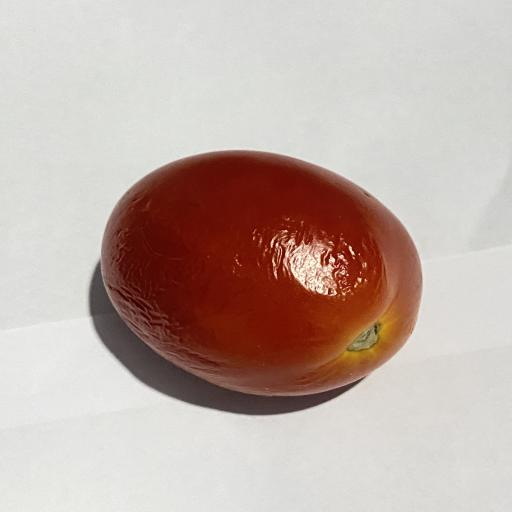spoiled: (102, 152, 421, 395)
